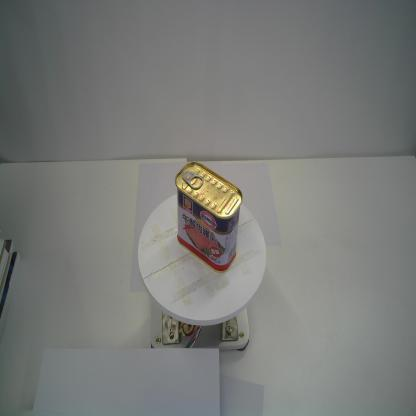Canned Food: (173, 161, 247, 274)
